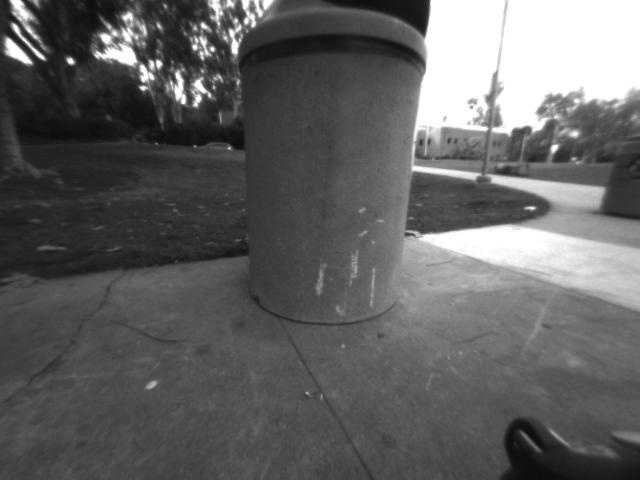trashcan: (225, 1, 443, 332)
